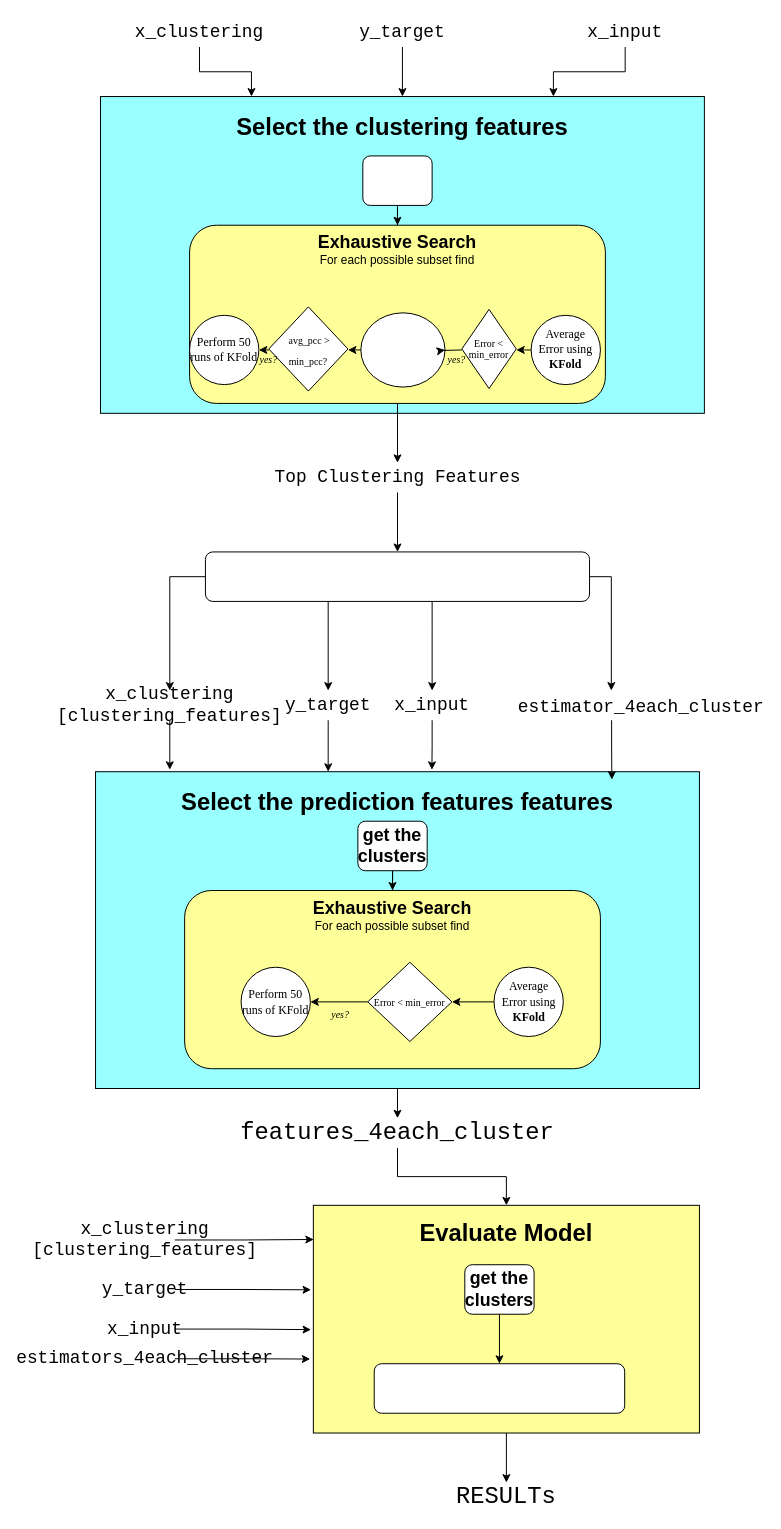
Some shapes in this 781 by 1529 pixel diagram are drawn without their labels. Here are the shapes that lost their labels. From the top down, the centre of each, then its label:
the point at 397,180: PCC
the point at 402,349: Average PCC of the features in each cluster
the point at 397,576: for the first two [clustering features] in Top Clustering Features
the point at 499,1388: For each cluster, do KFold n times
